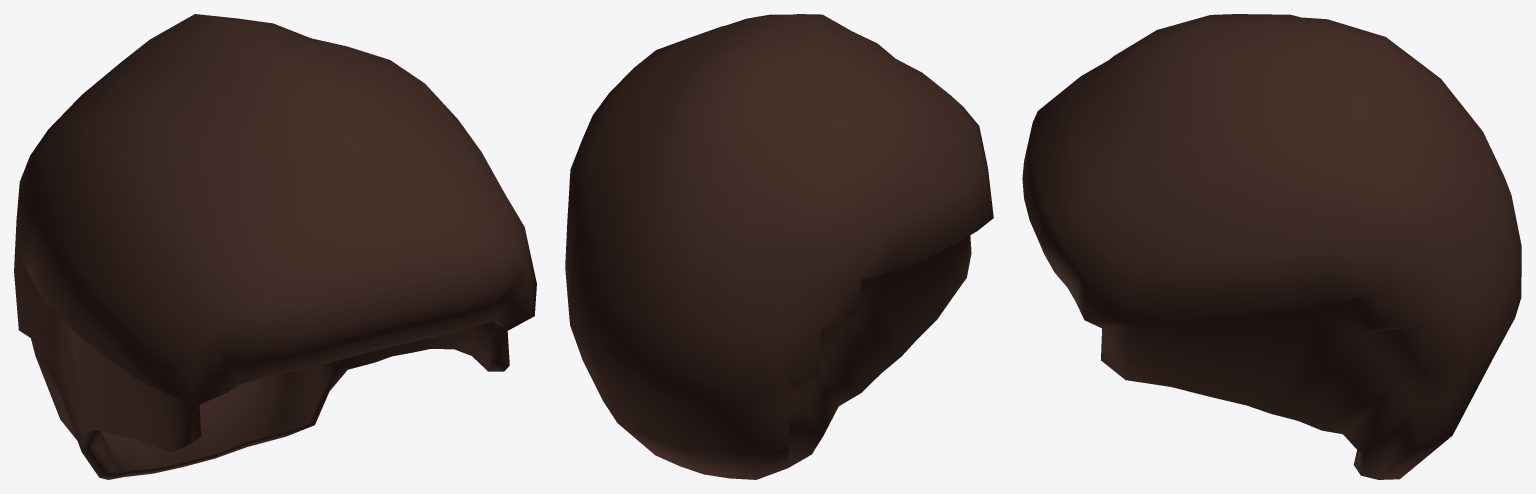
File: Hair06.fbx
3 renders of one model, left to right at view 1: azimuth 30°, elevation 25°; view 2: azimuth 150°, elevation 25°; view 3: azimuth 270°, elevation 25°, orthographic. The views are drawn at different scales.
Parts seen in each view (by area): view 1: Hair06; view 2: Hair06; view 3: Hair06.
Part boxes in pixels (box(x1,y1,x2,y2)): Hair06: box(14, 14, 536, 479); Hair06: box(565, 14, 993, 479); Hair06: box(1022, 14, 1521, 479).
Bounding box in the file's own units: 30.05 × 32.72 × 34.07.
